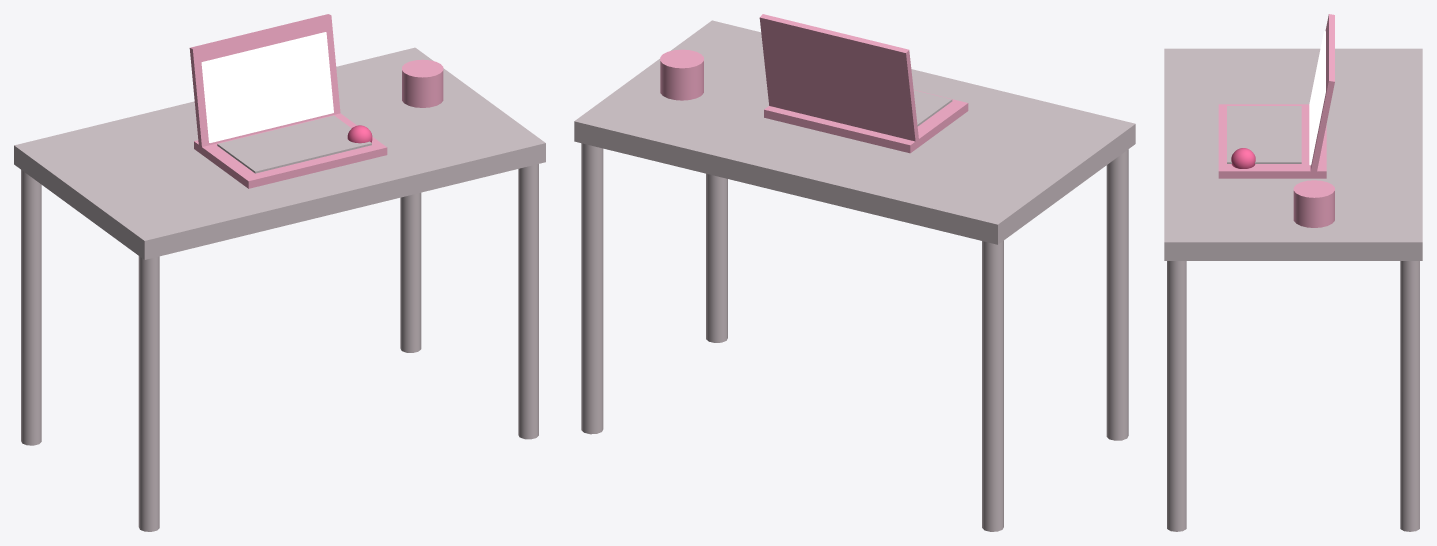
The model's file is pc_cute_0.glb.
The picture shows the model from 3 angles, left to right: view 1: azimuth 30°, elevation 25°; view 2: azimuth 150°, elevation 25°; view 3: azimuth 270°, elevation 25°; orthographic projection. The views are drawn at different scales.
Size of the model in its own units: 1.1 by 1.03 by 0.62.
